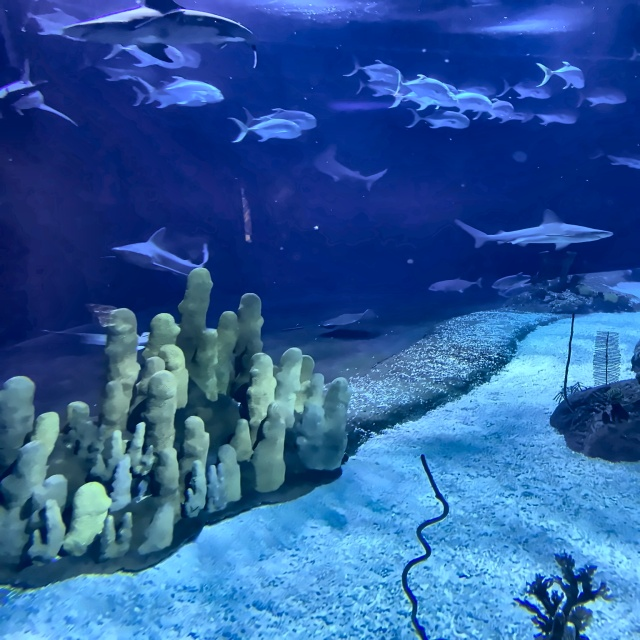fish: (103, 38, 185, 70), (136, 80, 225, 104), (226, 116, 301, 142), (342, 53, 404, 84), (383, 88, 460, 111), (242, 107, 316, 130), (130, 86, 206, 108), (405, 108, 470, 131), (435, 90, 493, 115), (518, 104, 577, 127), (535, 62, 585, 89), (588, 145, 639, 170), (394, 80, 450, 101), (572, 87, 626, 108), (428, 275, 484, 295), (495, 79, 551, 99), (355, 77, 407, 97), (472, 98, 514, 120), (491, 272, 538, 288)
shark: (61, 1, 259, 69), (450, 208, 612, 252), (98, 227, 208, 278), (1, 58, 77, 126), (306, 144, 385, 192)
stingray: (318, 308, 378, 329)
